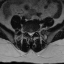CCS_normal: (30, 30, 32, 38)
LFS_severe_stenosis: (34, 30, 36, 34)
LLS_stenosis: (32, 30, 34, 36)
RFS_severe_stenosis: (26, 30, 28, 34)
RLS_normal: (28, 30, 30, 37)
